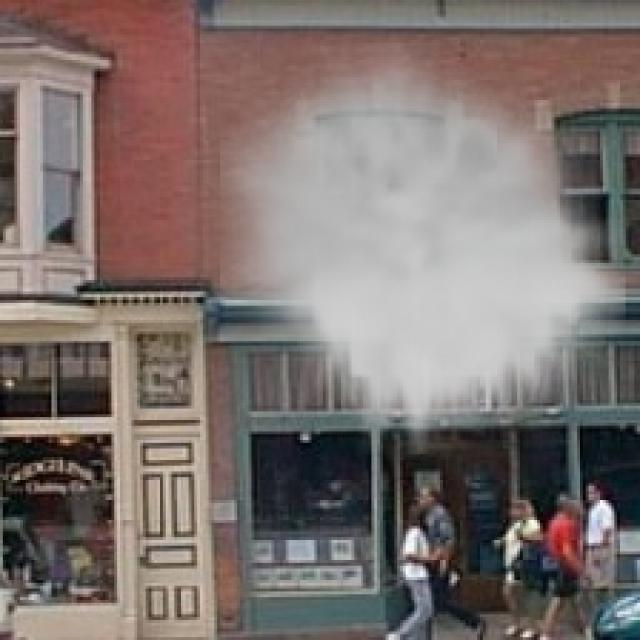Smoke: (220, 42, 626, 454)
